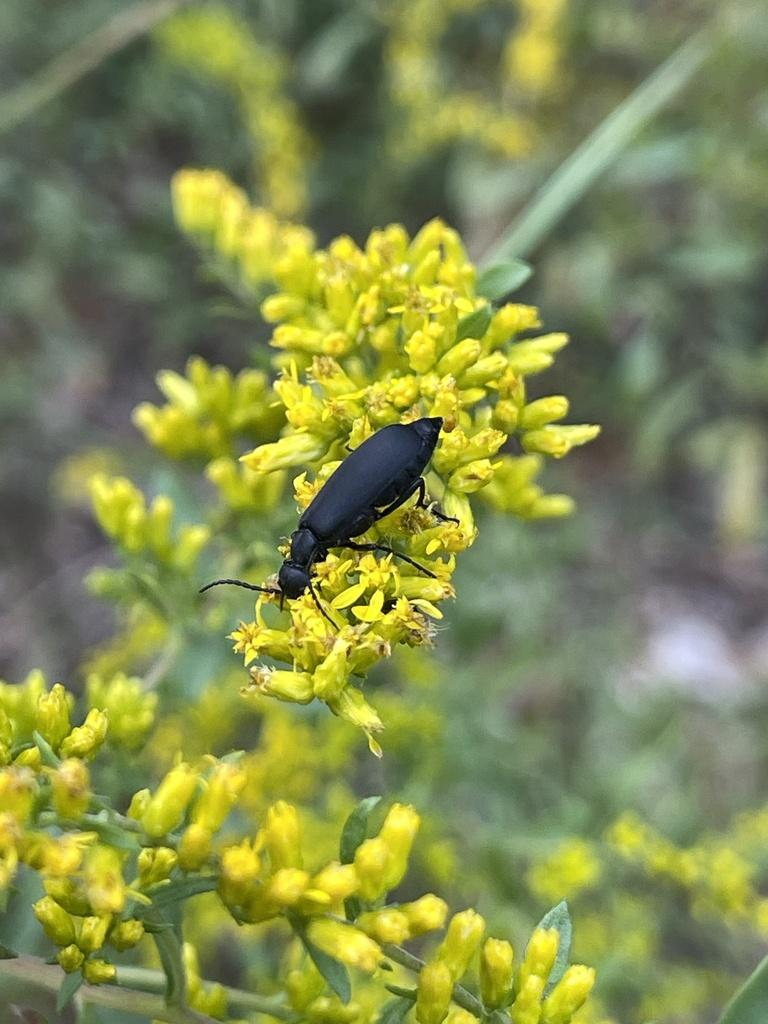blister_beetle: (175, 365, 521, 669)
